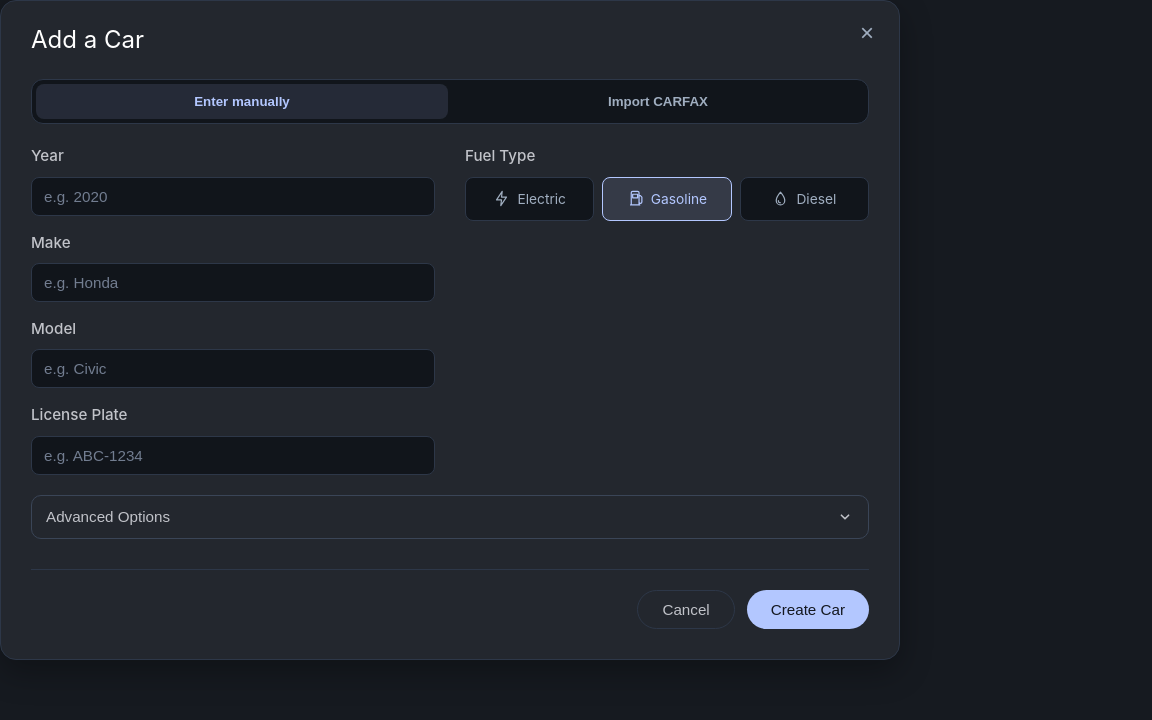
Test case: CarForm › removes non-digits from mileage as the user types
Click the button with class "advanced-toggle". click: [108, 517]
box: [32, 496, 868, 538]
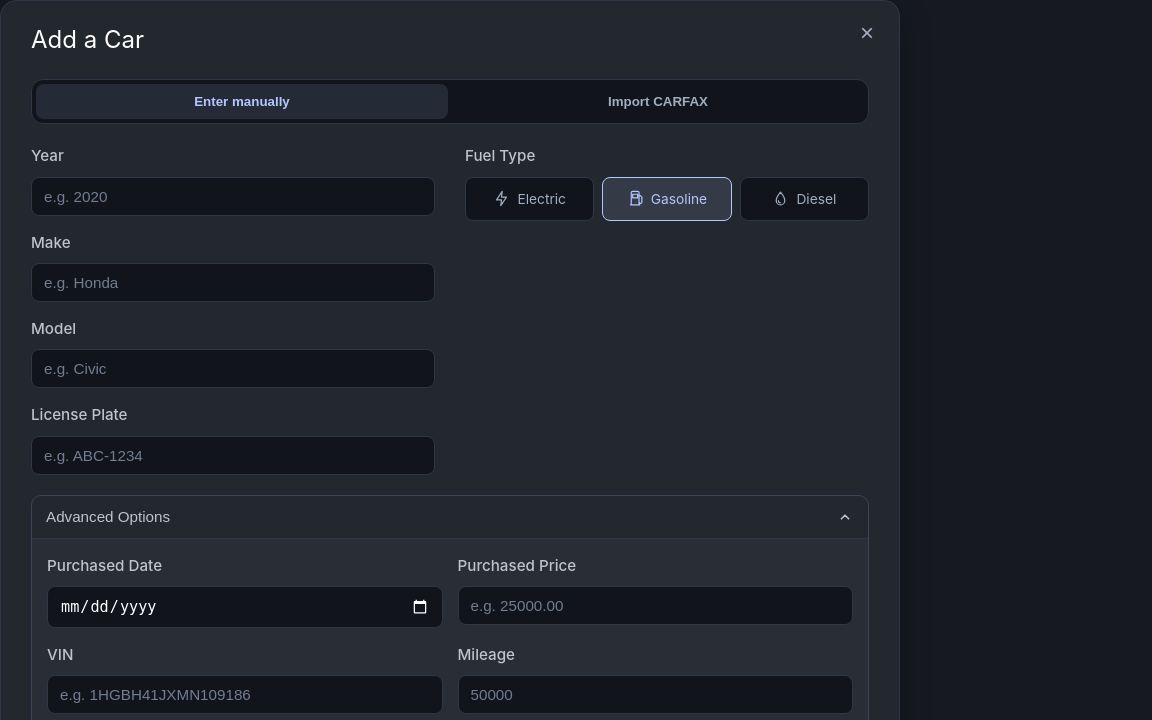
Type "12abc.34" into the field with placeholder "50000". click: [655, 695]
box: [458, 675, 853, 714]
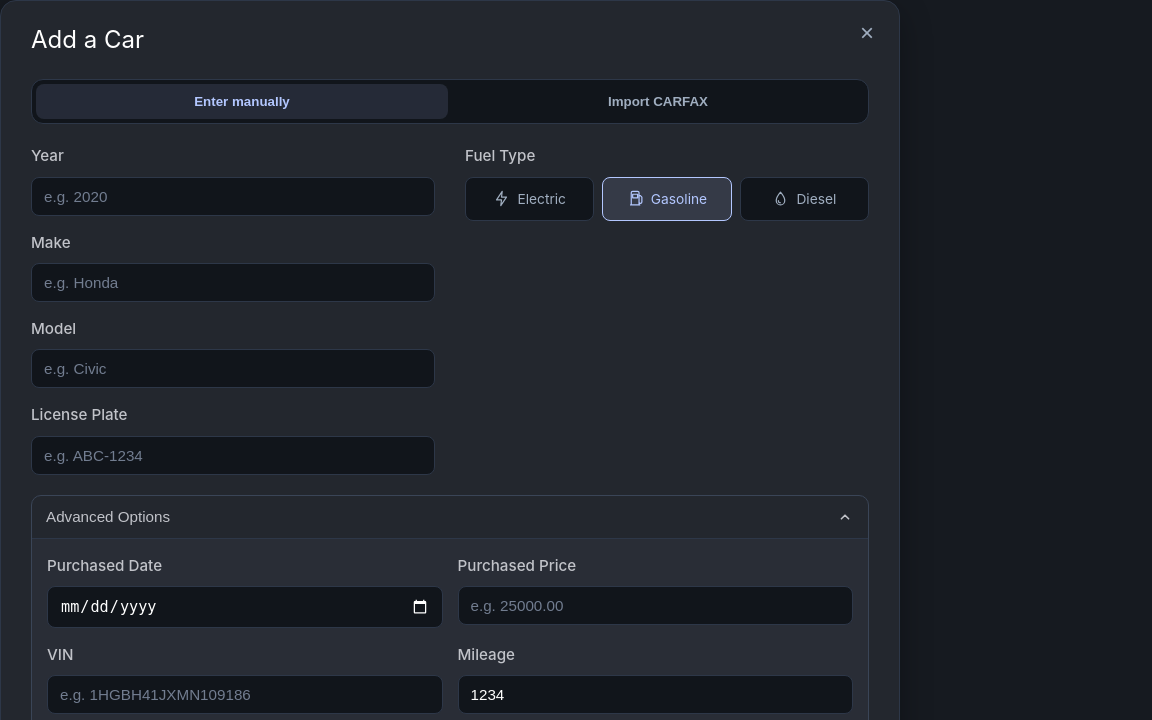
Now the 7th field holds "1234", box [458, 675, 853, 714]
